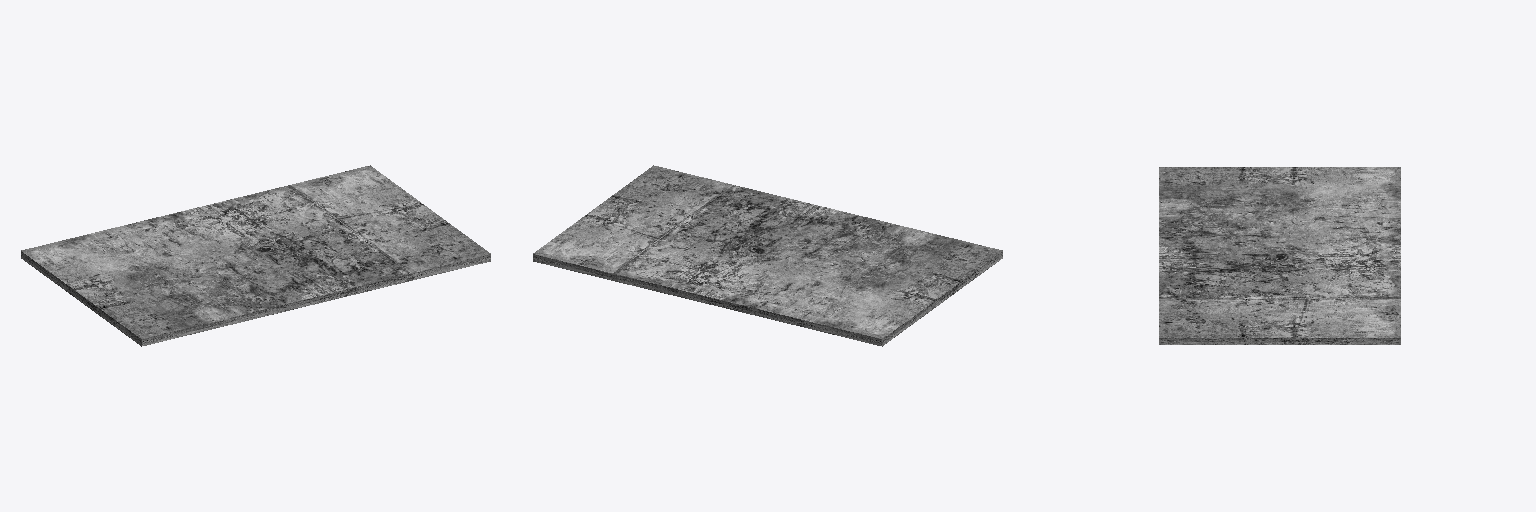
3 renders of one model, left to right at view 1: azimuth 30°, elevation 25°; view 2: azimuth 150°, elevation 25°; view 3: azimuth 270°, elevation 25°, orthographic.
Parts seen in each view (by area): view 1: Box001; view 2: Box001; view 3: Box001.
Boxes of the visible parts, x1,y1,x2,y2 form: Box001: [21, 165, 490, 346]; Box001: [533, 165, 1002, 346]; Box001: [1159, 167, 1400, 344].
Size of the model in its own units: 100 by 2 by 60.
1 materials, 1 textured.